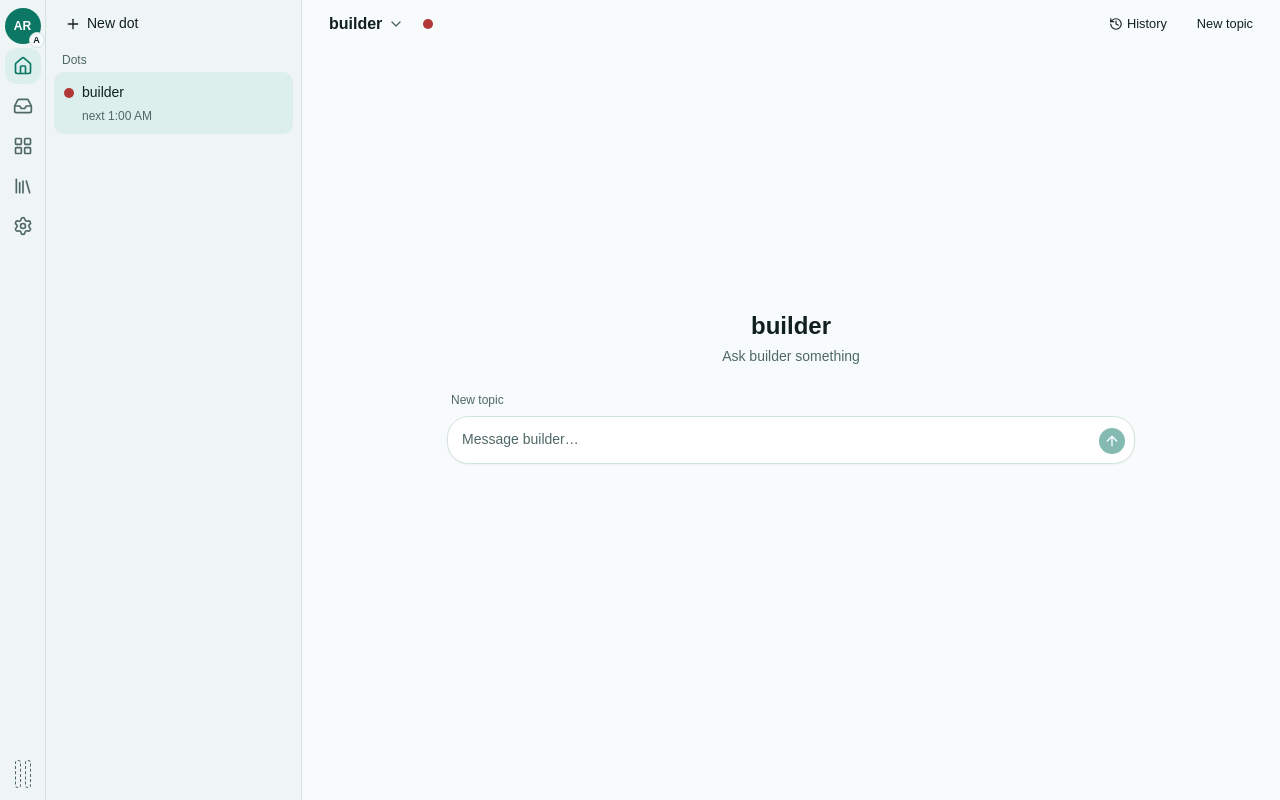
Test: the home follows the current account › stays in the account picked while a dot is open
Check: the text box labelled "Message" is shown, box [456,425,1090,455]
What coordinates should you click on to do the following:
click the button with aria-label "Account:"
I would click on:
 (22, 26)
Its box is [4,8,40,44].
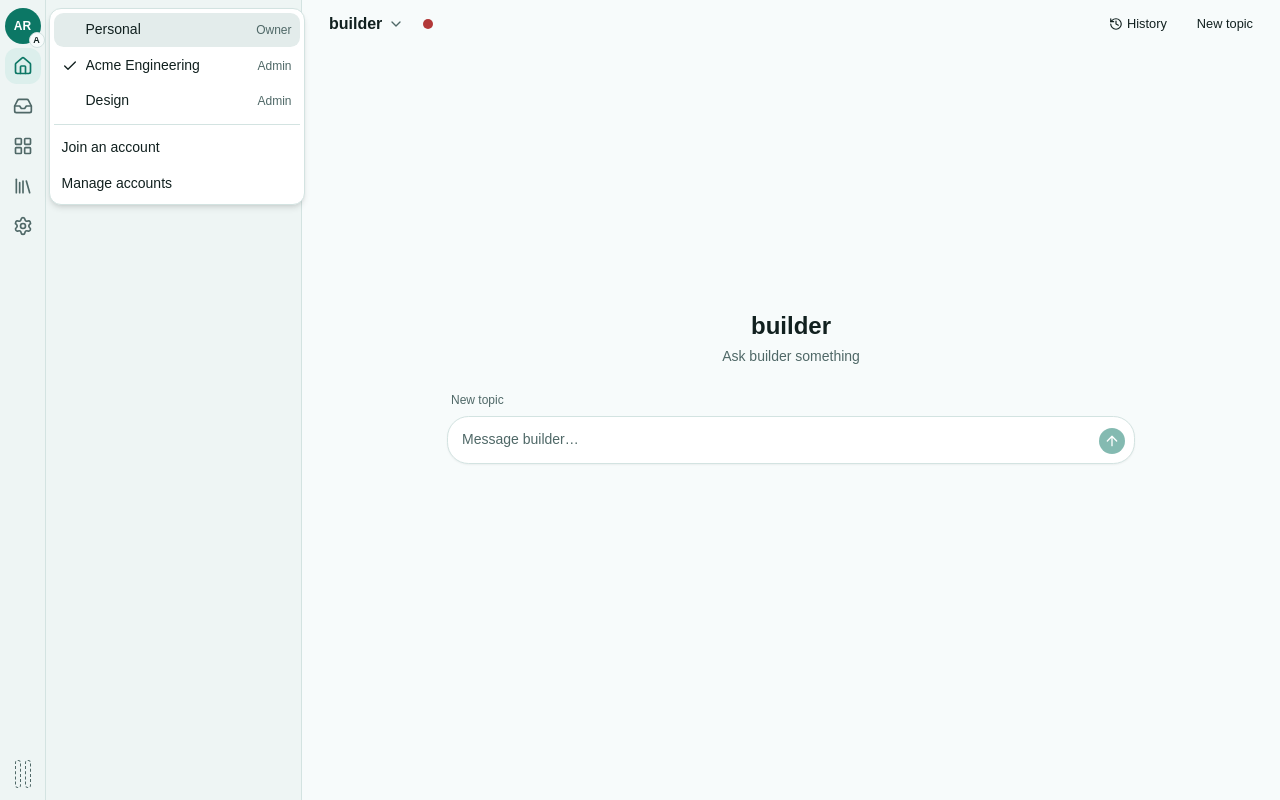
What coordinates should you click on to do the following:
click the menu item "Personal Owner"
I would click on:
 (176, 30)
Its box is [54,13,300,47].
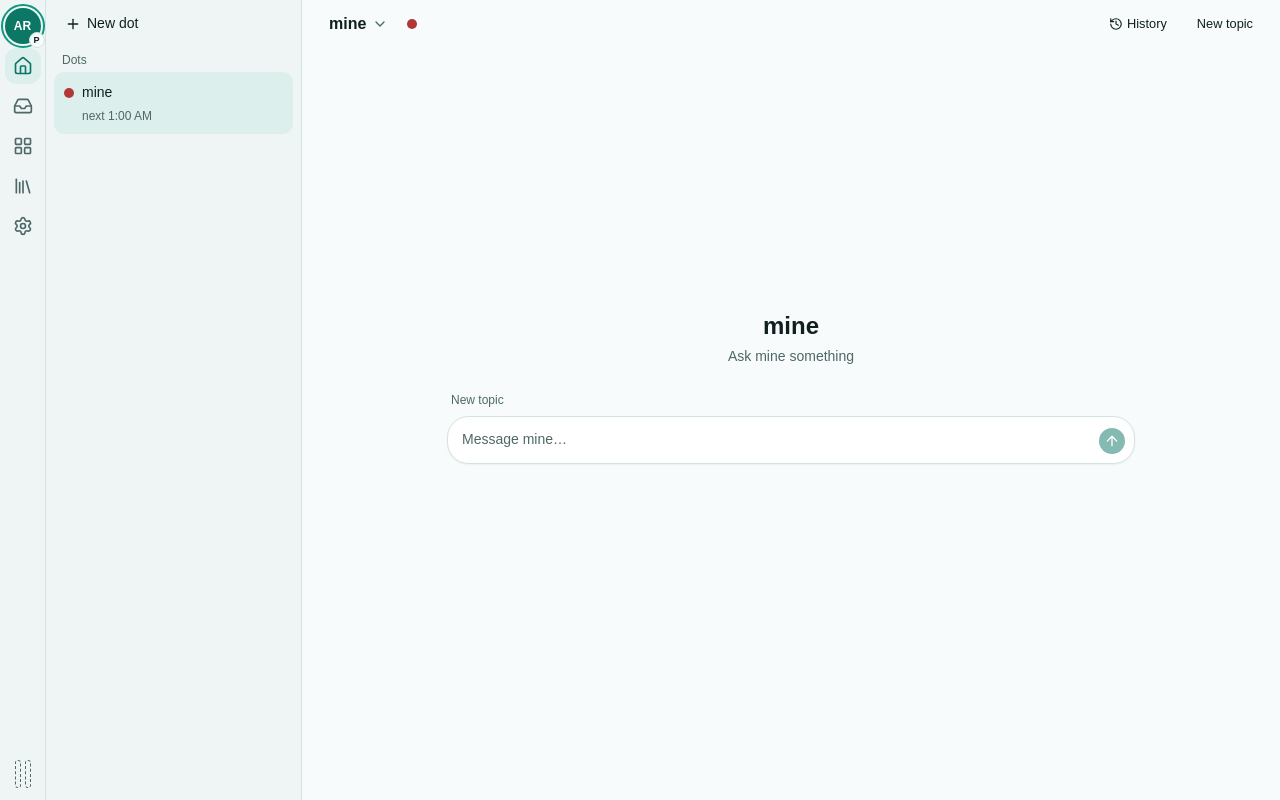
Check: the text box labelled "Message" is shown, box [456,425,1090,455]
Check: the list item "mine" is shown, box [54,72,293,134]
Check: the link "builder" is gone
